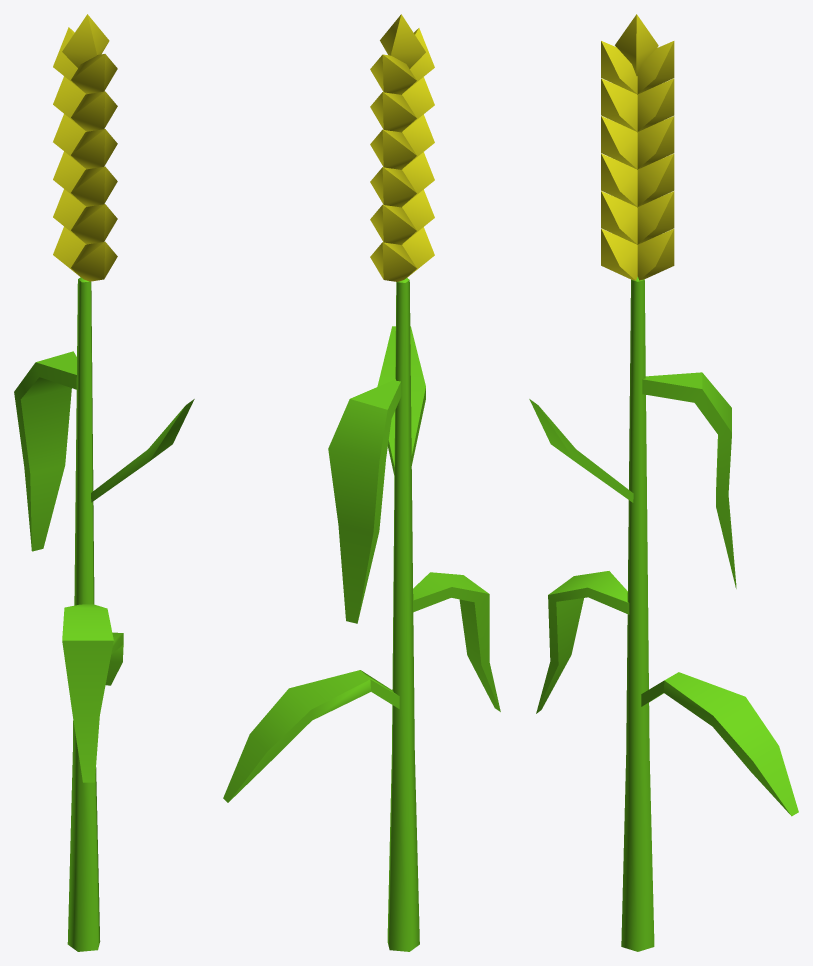
Rendered from SM_Wheat_1_c.FBX.
The picture shows the model from 3 angles, left to right: view 1: azimuth 30°, elevation 25°; view 2: azimuth 150°, elevation 25°; view 3: azimuth 270°, elevation 25°; orthographic projection.
Parts seen in each view (by area): view 1: Wheat 3; view 2: Wheat 3; view 3: Wheat 3.
Part boxes in pixels (bbox=[...]): Wheat 3: bbox=[14, 14, 194, 951]; Wheat 3: bbox=[223, 14, 500, 951]; Wheat 3: bbox=[529, 14, 798, 951].
Bounding box in the file's own units: 1.05 × 5.9 × 1.55.
